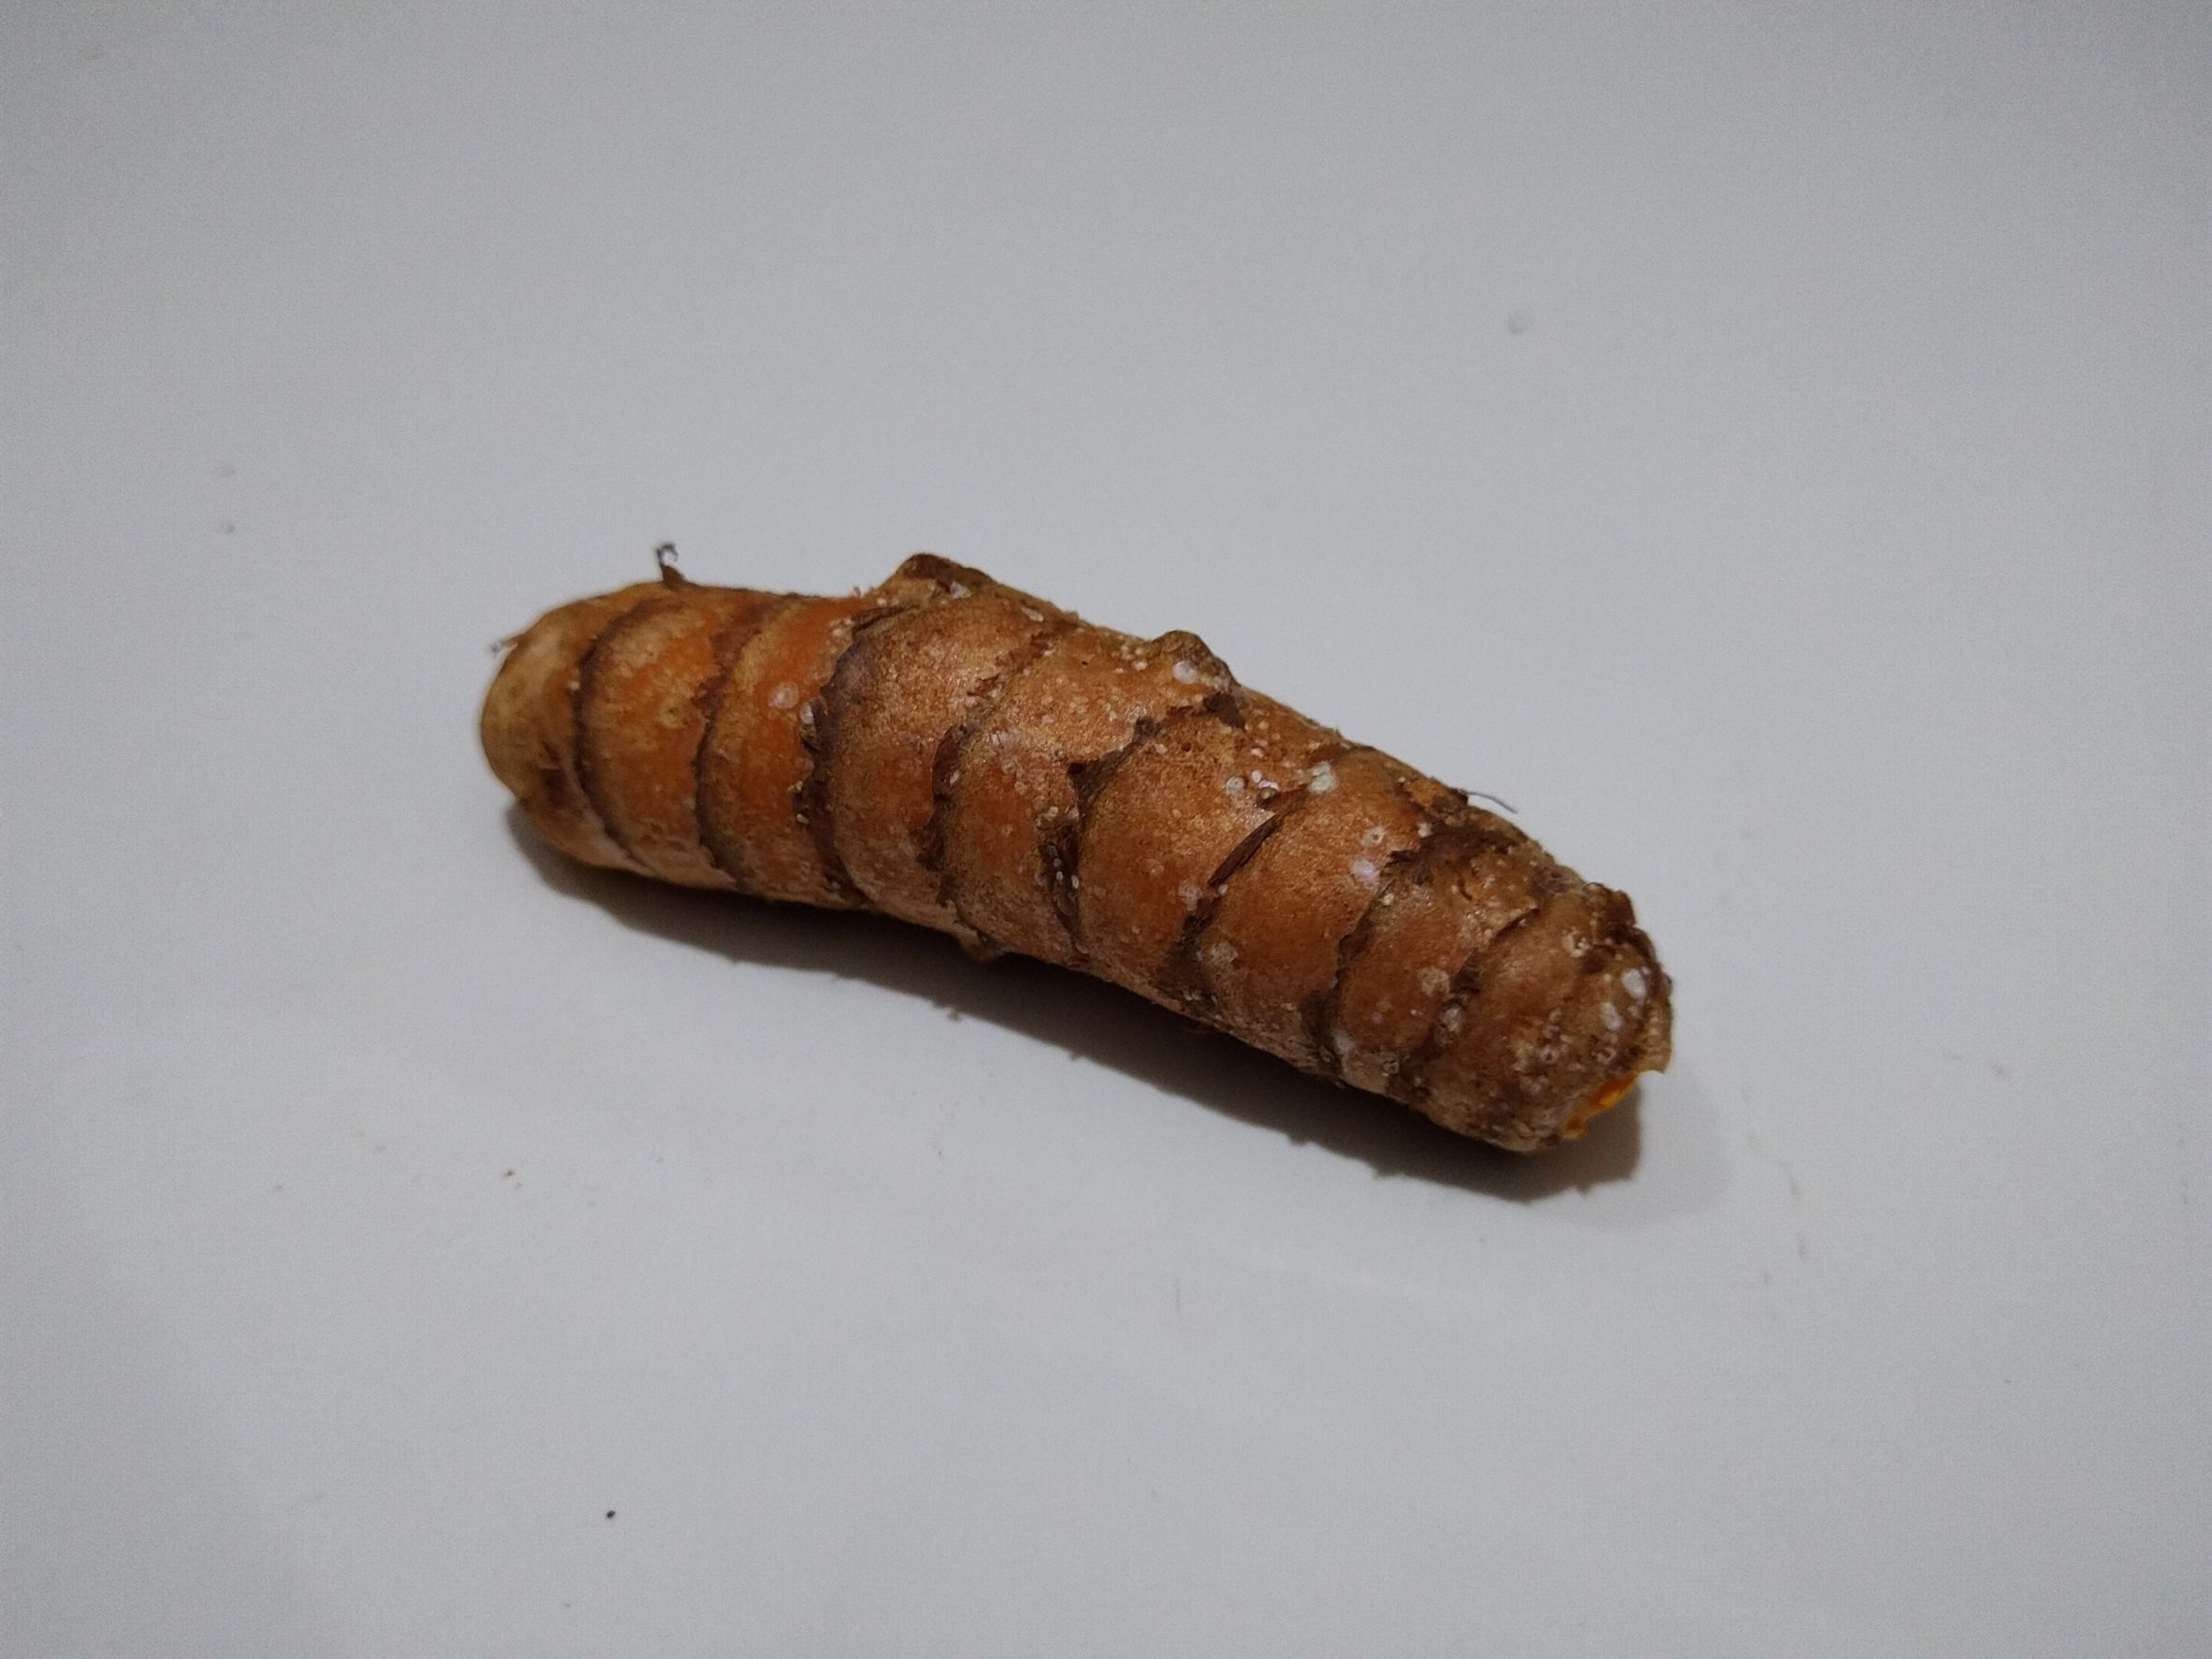Kunyit: (482, 584, 1670, 1190)
